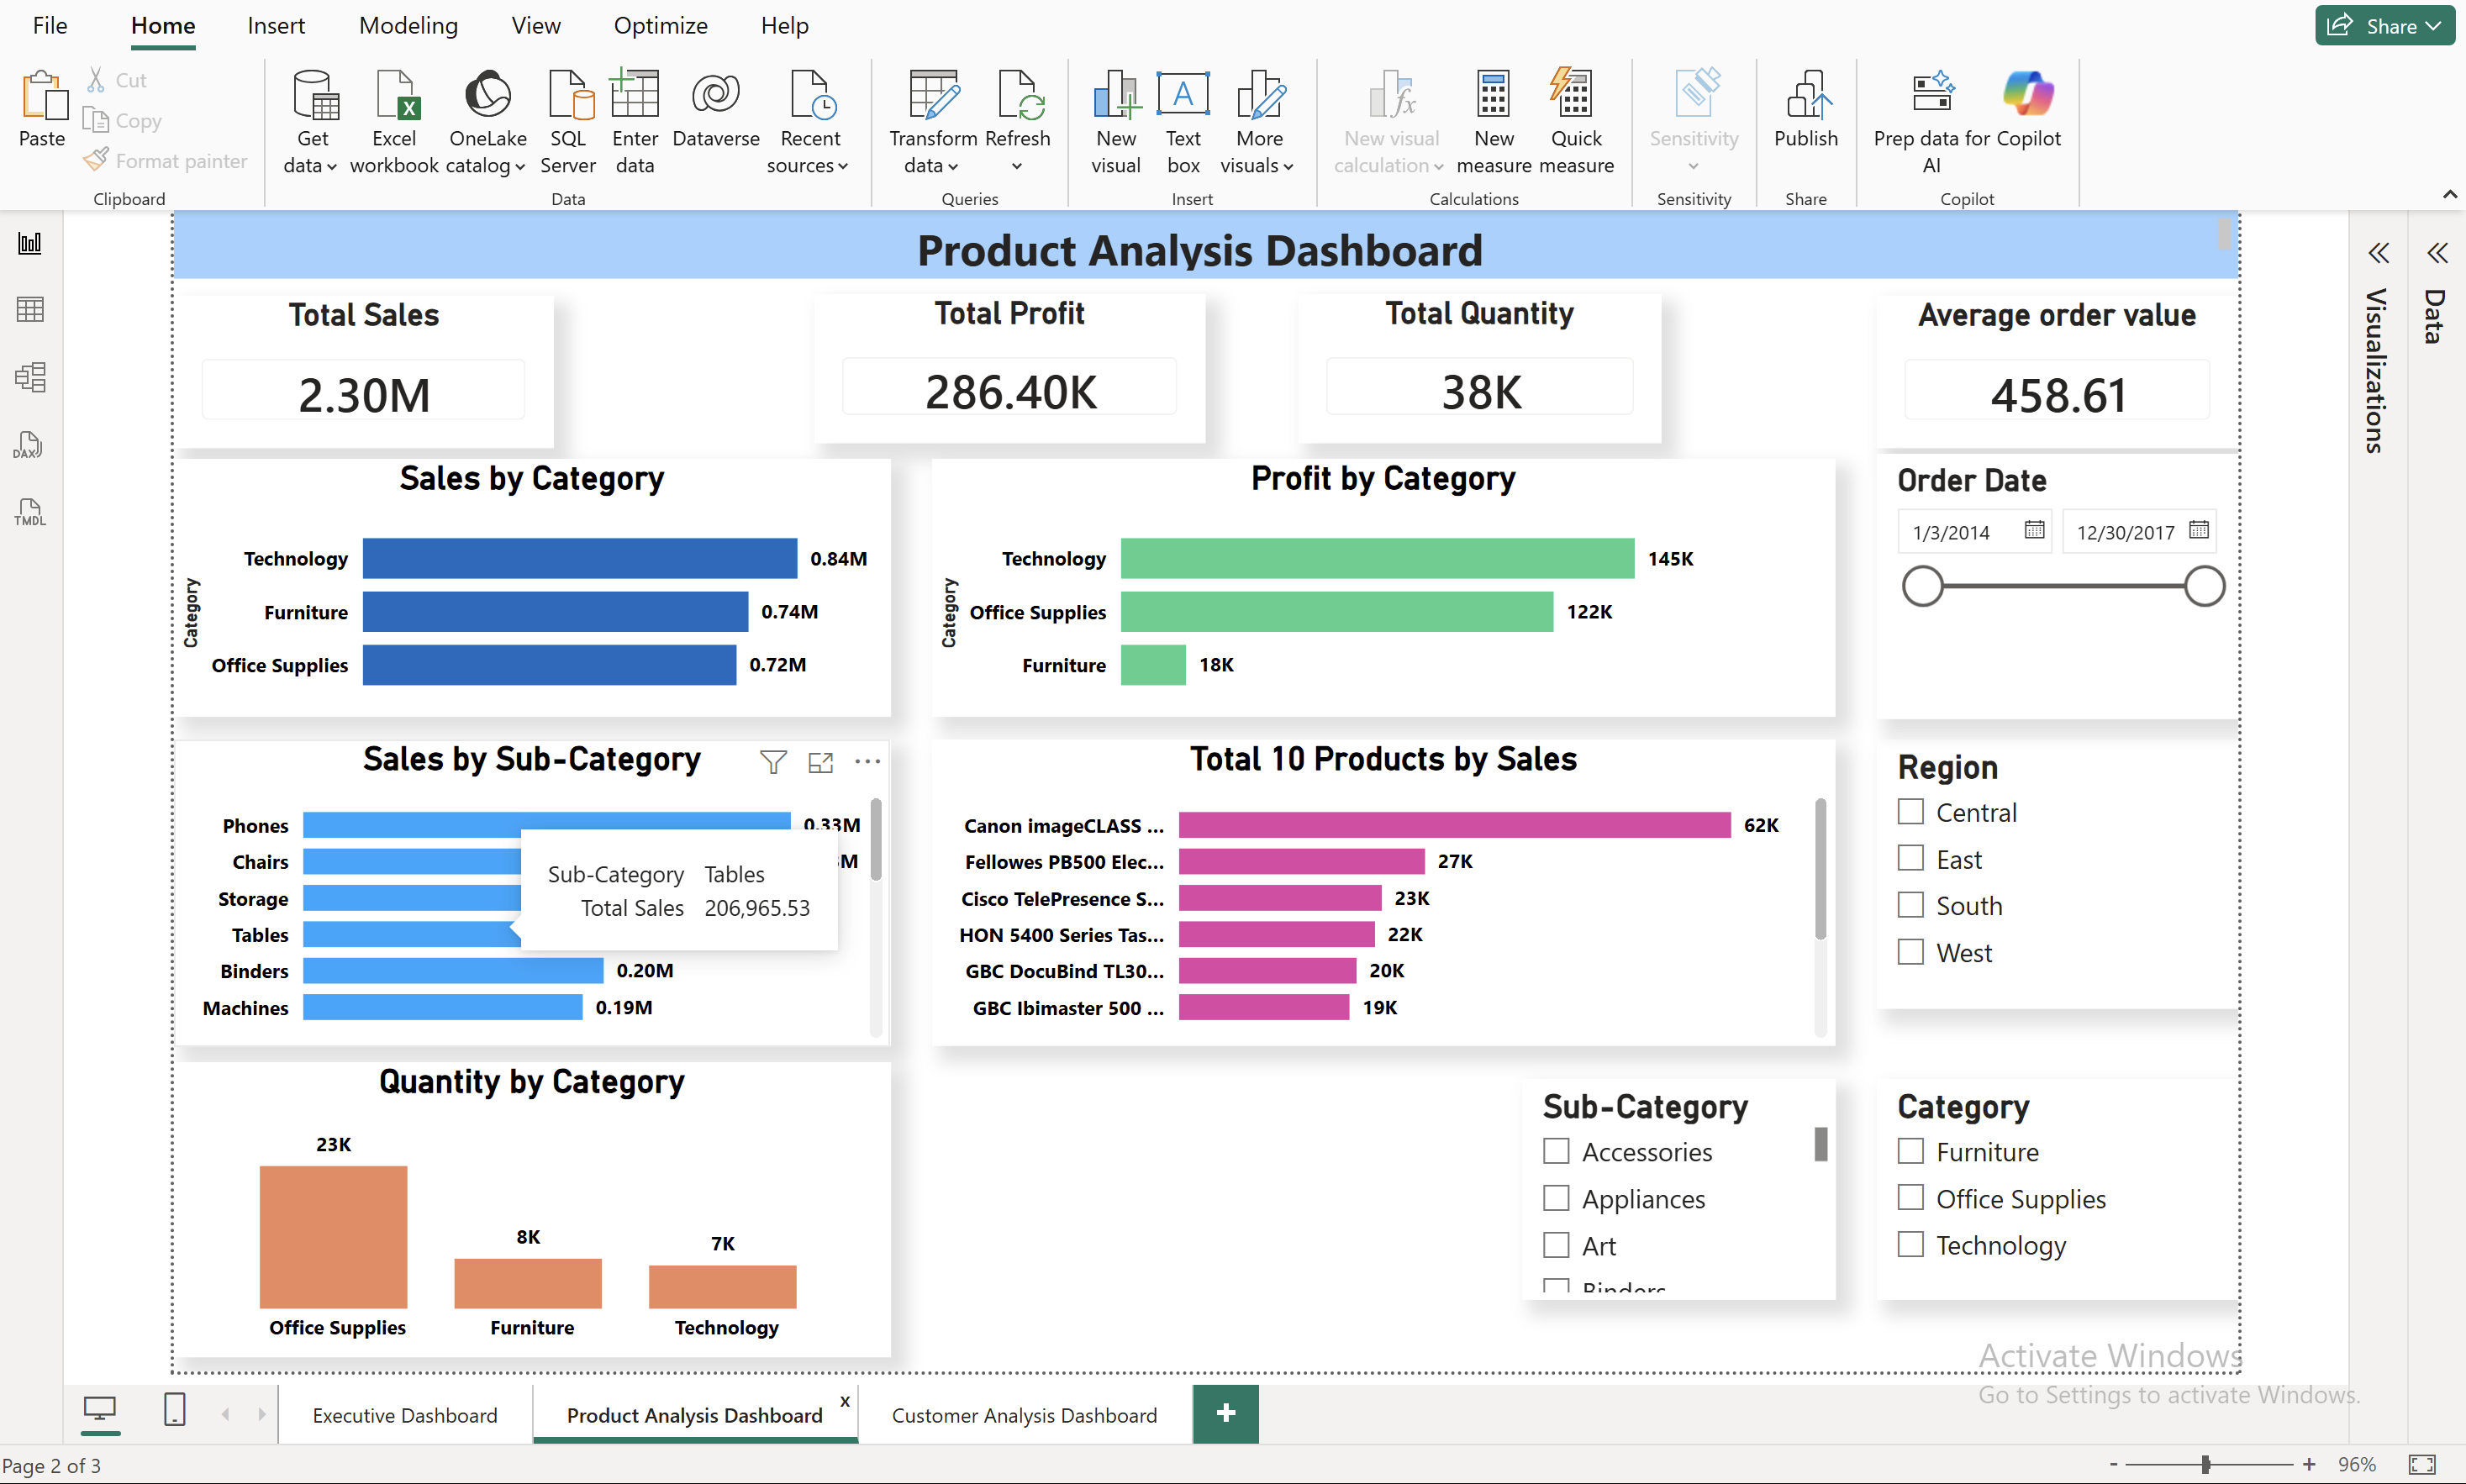

The page's visual inventory and layout, read from the dashboard file:
{"tool":"powerbi","page":{"name":"Product Analysis Dashboard","canvas":[1280,720],"ordinal":1},"visuals":[{"type":"cardVisual","title":"Total Sales","fields":{"Data":["Superstore_dataset.Total Sales"]},"box":[0,52.9,235.7,94.3],"z":0},{"type":"cardVisual","title":"Total Profit","fields":{"Data":["Superstore_dataset.Total Profit"]},"box":[397.5,52.5,242.5,92.5],"z":1000},{"type":"cardVisual","title":"Total Quantity","fields":{"Data":["Superstore_dataset.Total Quantity"]},"box":[697.5,52.5,225,92.5],"z":2000},{"type":"cardVisual","title":"Average order value","fields":{"Data":["Superstore_dataset.Average Order Value"]},"box":[1055.7,52.9,224.3,94.3],"z":3000},{"type":"clusteredBarChart","title":"Sales by Category","fields":{"Category":["Superstore_dataset.Category"],"Y":["Superstore_dataset.Total Sales"]},"box":[0,154.3,444.3,160],"z":4000},{"type":"clusteredBarChart","title":"Profit by Category","fields":{"Category":["Superstore_dataset.Category"],"Y":["Superstore_dataset.Total Profit"]},"box":[470,154.3,560,160],"z":5000},{"type":"clusteredBarChart","title":"Sales by Sub-Category","fields":{"Y":["Superstore_dataset.Total Sales"],"Category":["Superstore_dataset.Sub-Category"]},"box":[0,328.6,444.3,190],"z":6000},{"type":"clusteredBarChart","title":"Total 10 Products by Sales","fields":{"Category":["Superstore_dataset.Product Name"],"Y":["Superstore_dataset.Total Sales"]},"box":[470,328.6,560,190],"z":7000},{"type":"clusteredColumnChart","title":"Quantity by Category","fields":{"Category":["Superstore_dataset.Category"],"Y":["Superstore_dataset.Total Quantity"]},"box":[0,528.6,444.3,182.9],"z":8000},{"type":"slicer","fields":{"Values":["Superstore_dataset.Category"]},"box":[1055.7,538.6,224.3,137.1],"z":9000},{"type":"slicer","fields":{"Values":["Superstore_dataset.Sub-Category"]},"box":[835.7,538.6,194.3,137.1],"z":10000},{"type":"slicer","fields":{"Values":["Superstore_dataset.Region"]},"box":[1055.7,328.6,225.7,167.1],"z":11000},{"type":"slicer","fields":{"Values":["Superstore_dataset.Order Date"]},"box":[1055.7,151.4,224.3,164.3],"z":12000},{"type":"textbox","box":[0,0,1280,42.5],"z":12005}]}

Visuals, with their boxes on the page's 1280x720 design canvas (x1, y1, x2, y2). These are canvas units, not pixel positions in the 2466x1484 screenshot, which may show the page scaled, cropped or inside an application window:
"Total Sales" cardVisual: BBox(0, 53, 236, 147)
"Total Profit" cardVisual: BBox(398, 52, 640, 145)
"Total Quantity" cardVisual: BBox(698, 52, 922, 145)
"Average order value" cardVisual: BBox(1056, 53, 1280, 147)
"Sales by Category" clusteredBarChart: BBox(0, 154, 444, 314)
"Profit by Category" clusteredBarChart: BBox(470, 154, 1030, 314)
"Sales by Sub-Category" clusteredBarChart: BBox(0, 329, 444, 519)
"Total 10 Products by Sales" clusteredBarChart: BBox(470, 329, 1030, 519)
"Quantity by Category" clusteredColumnChart: BBox(0, 529, 444, 712)
slicer - Superstore_dataset.Category: BBox(1056, 539, 1280, 676)
slicer - Superstore_dataset.Sub-Category: BBox(836, 539, 1030, 676)
slicer - Superstore_dataset.Region: BBox(1056, 329, 1281, 496)
slicer - Superstore_dataset.Order Date: BBox(1056, 151, 1280, 316)
textbox: BBox(0, 0, 1280, 42)
